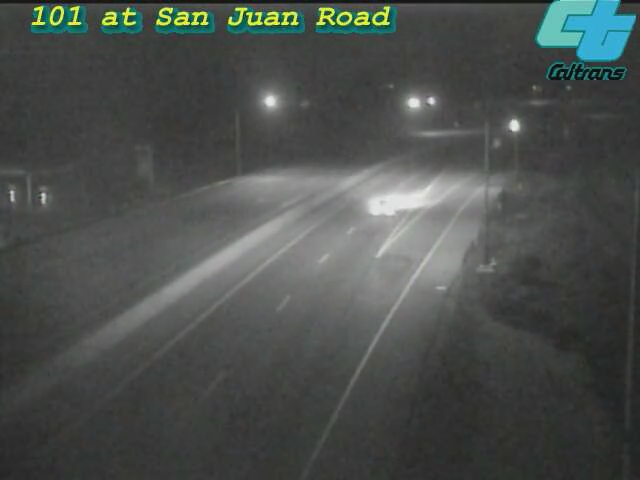vehicle: (345, 167, 425, 247), (490, 101, 540, 151)
